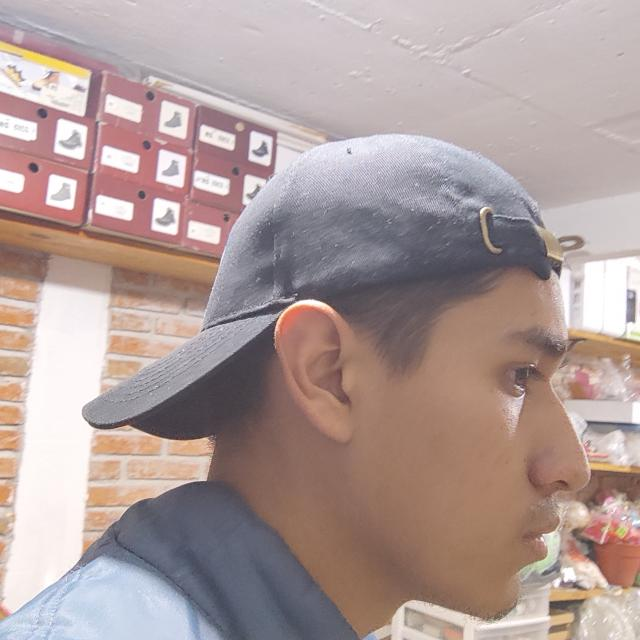ear: (274, 300, 368, 444)
